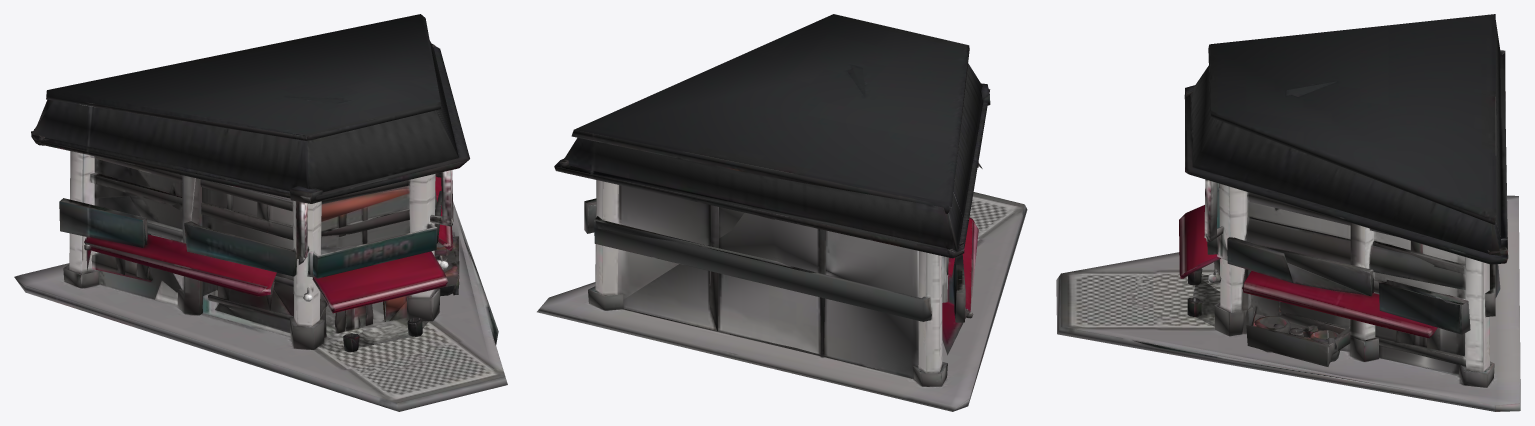
File: cafe.glb
3 renders of one model, left to right at view 1: azimuth 30°, elevation 25°; view 2: azimuth 150°, elevation 25°; view 3: azimuth 270°, elevation 25°, orthographic.
Parts seen in each view (by area): view 1: mesh_node; view 2: mesh_node; view 3: mesh_node.
Part boxes in pixels (x1=…): mesh_node: x1=14, y1=14, x2=507, y2=411; mesh_node: x1=537, y1=14, x2=1027, y2=411; mesh_node: x1=1056, y1=14, x2=1520, y2=411.
Bounding box in the file's own units: 1 × 0.5098 × 0.9395.
Materials: 1 (1 with a texture image).
